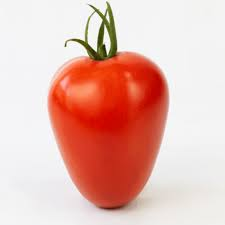tomate: (49, 8, 170, 211)
